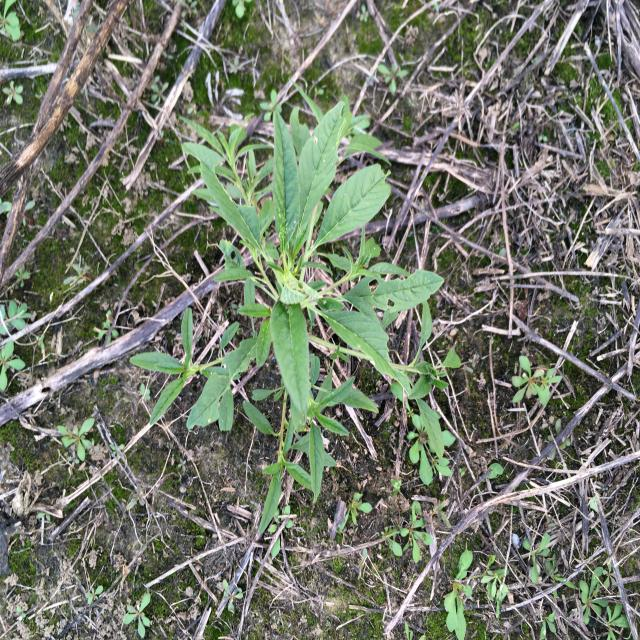Carpetweed: (440, 532, 630, 640), (405, 411, 459, 487), (509, 352, 565, 408), (54, 413, 99, 464)
Waterhemp: (128, 99, 446, 537)
